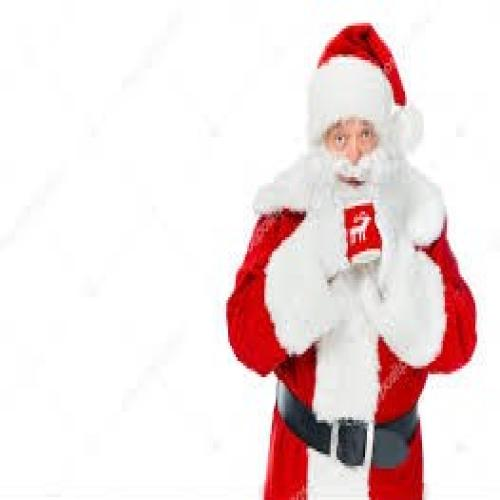Santa: (226, 21, 476, 500)
